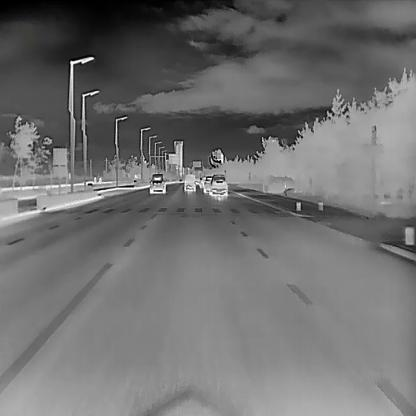car: (209, 174, 228, 196), (148, 172, 166, 194), (183, 172, 195, 193), (202, 176, 212, 192), (199, 174, 208, 188)
